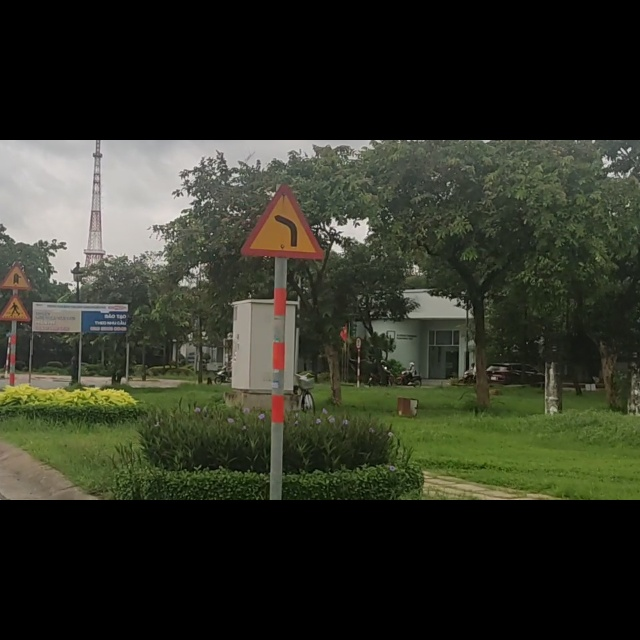bien_nguy_hiem: (239, 76, 327, 213), (1, 274, 33, 325), (2, 216, 33, 267)
